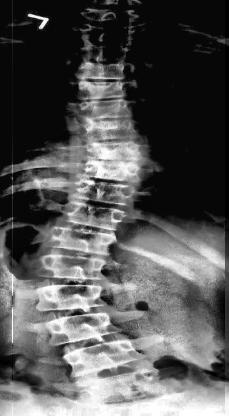Vertebrae: (62, 338, 148, 380), (45, 311, 124, 347), (44, 224, 119, 256), (57, 200, 128, 233), (36, 282, 109, 312), (74, 135, 146, 165), (34, 254, 106, 283), (73, 158, 145, 186), (68, 180, 136, 209), (78, 118, 140, 146), (74, 75, 128, 103), (74, 98, 132, 124), (83, 24, 135, 51), (74, 55, 126, 81), (80, 42, 134, 64), (80, 12, 138, 30)
